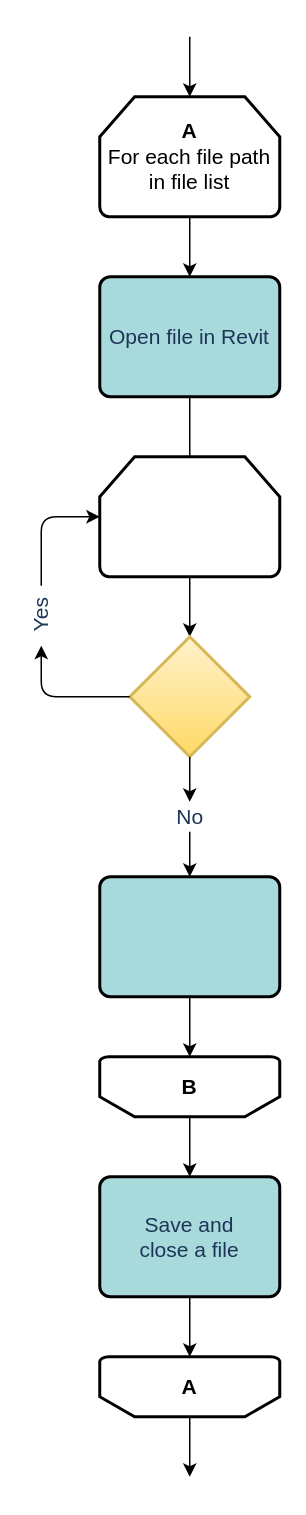
Some shapes in this 306 by 1515 pixel diagram are drawn without their labels. Each missing label, with the centre of its shape:
"B For each family path in list" goes at [189,516].
"Family exist in file?" goes at [189,696].
"Load family" goes at [189,936].
